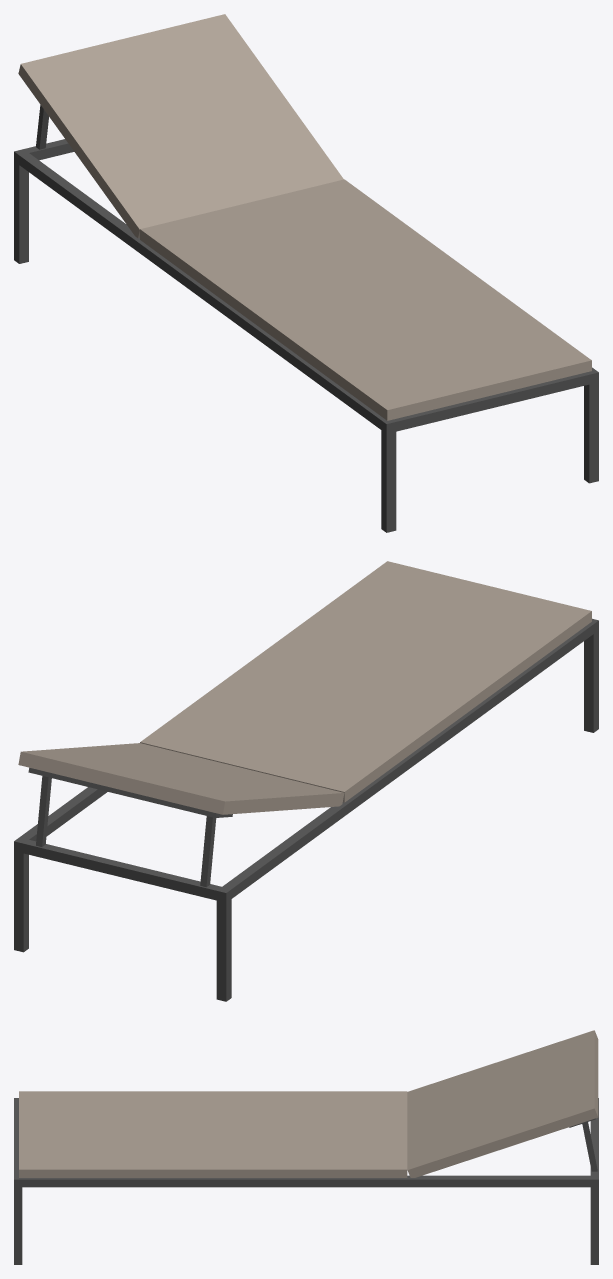
File: Lounger_02.fbx
3 views of the same model, one above another, from view 1: azimuth 30°, elevation 25°; view 2: azimuth 150°, elevation 25°; view 3: azimuth 270°, elevation 25° (orthographic). The views are drawn at different scales.
Parts seen in each view (by area): view 1: Lounger_02; view 2: Lounger_02; view 3: Lounger_02.
Boxes of the visible parts, <box> form: Lounger_02: <box>14,14,598,532</box>; Lounger_02: <box>14,561,598,1001</box>; Lounger_02: <box>14,1030,598,1264</box>.
Size of the model in its own units: 68.11 by 60.48 by 207.
